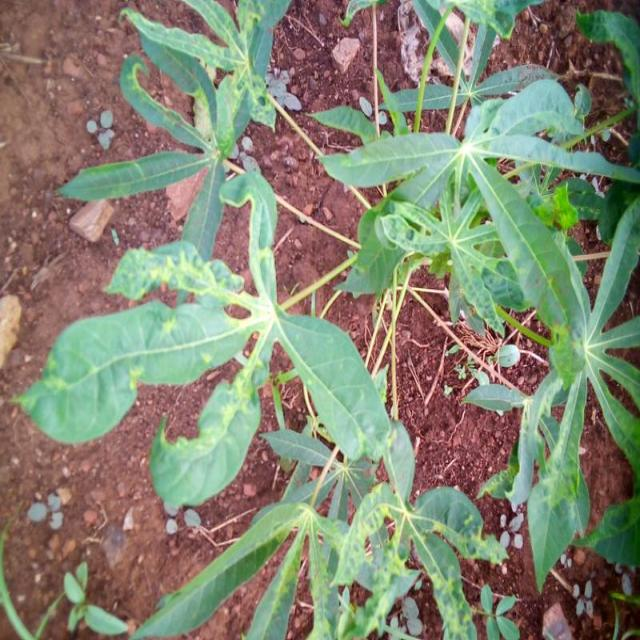cassava leaf: (8, 0, 638, 639), (11, 296, 260, 445)
